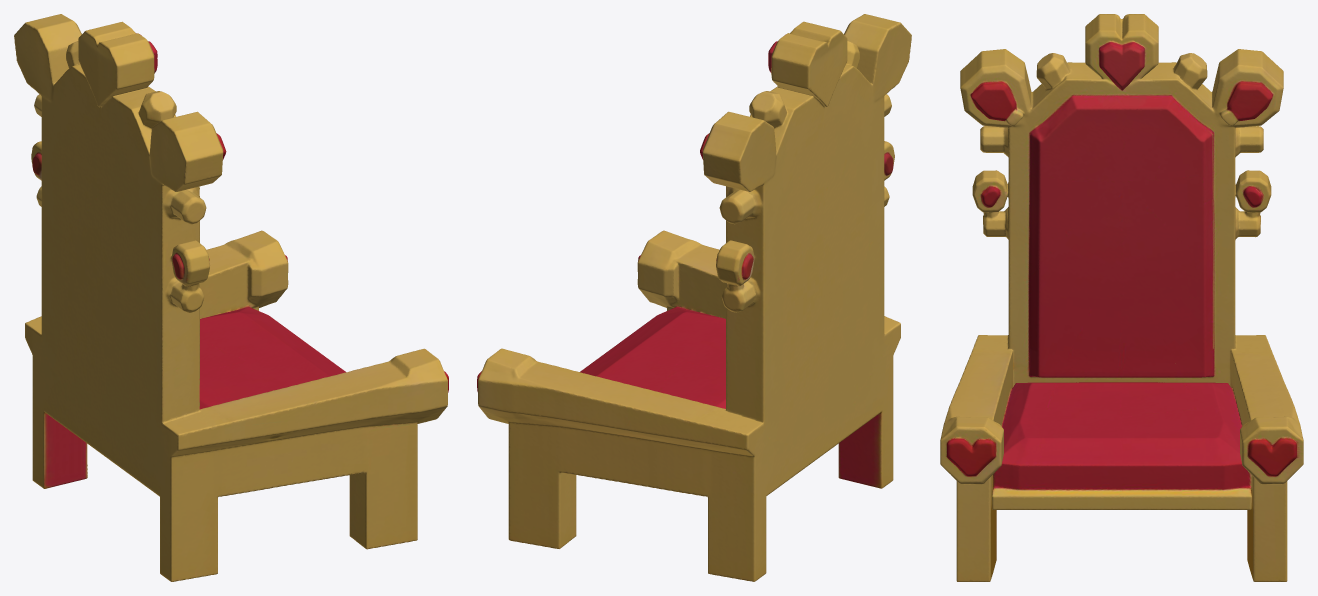
File: throne.glb
3 views of the same model, side by side, from view 1: azimuth 30°, elevation 25°; view 2: azimuth 150°, elevation 25°; view 3: azimuth 270°, elevation 25° (orthographic). The views are drawn at different scales.
Visible parts, largest first — view 1: tripo_node_f8442c48-61ec-42c8-ba04-c430605c8f5c; view 2: tripo_node_f8442c48-61ec-42c8-ba04-c430605c8f5c; view 3: tripo_node_f8442c48-61ec-42c8-ba04-c430605c8f5c.
Part boxes in pixels (<box>): tripo_node_f8442c48-61ec-42c8-ba04-c430605c8f5c: <box>14,14,448,581</box>; tripo_node_f8442c48-61ec-42c8-ba04-c430605c8f5c: <box>477,14,911,581</box>; tripo_node_f8442c48-61ec-42c8-ba04-c430605c8f5c: <box>940,14,1303,581</box>.
Size of the model in its own units: 0.5525 by 1 by 0.7123.
1 material, 1 textured.
